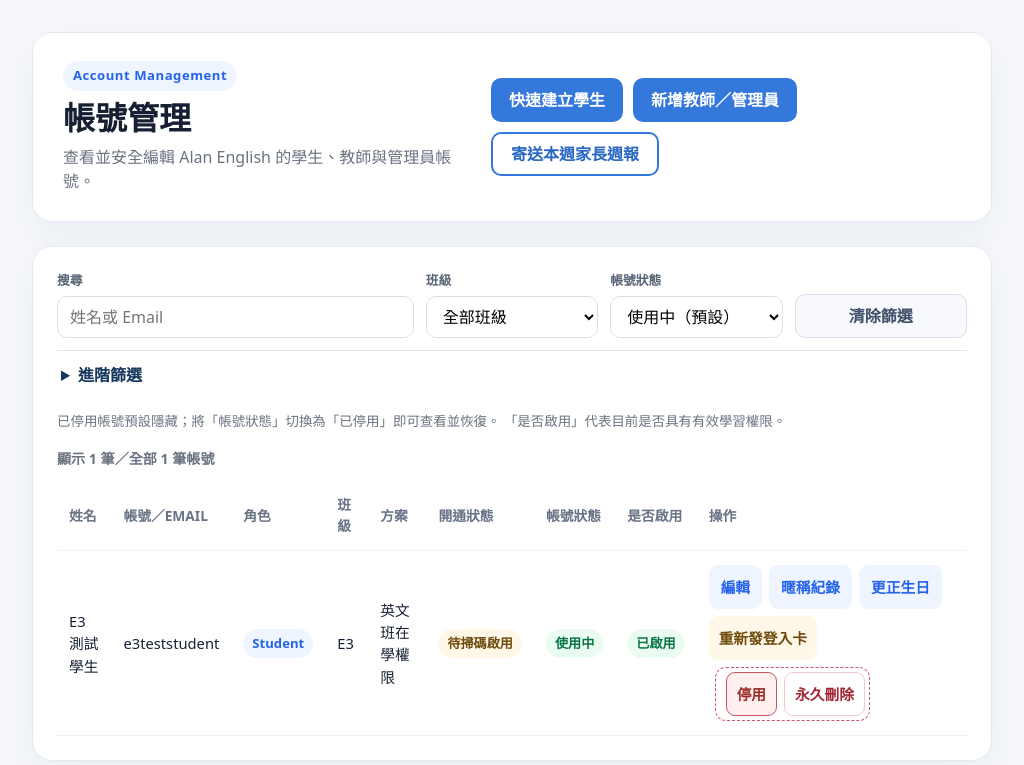
Test case: AccountManagement › hides an archived student by default and allows restoring it from the status filter
Click the button "停用" at {"x": 751, "y": 694}, box [726, 672, 777, 716]
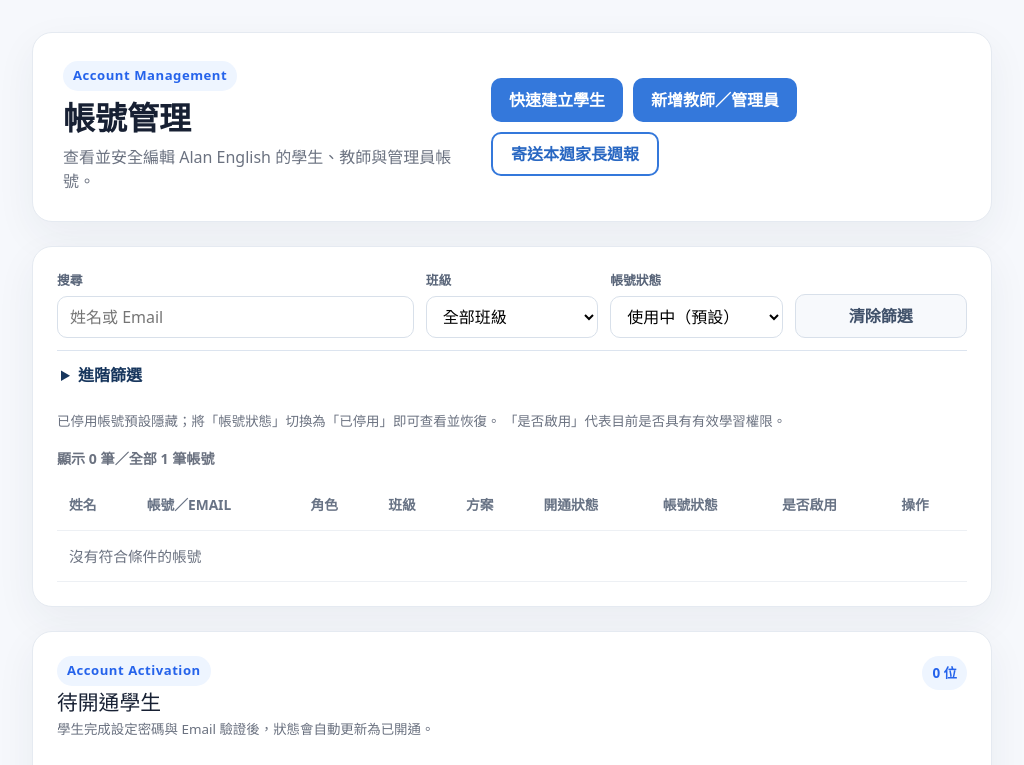
Result: the text "E3 測試學生" is gone
Select "已停用" in the dropdown labelled "帳號狀態" at {"x": 696, "y": 317}, box [610, 296, 783, 338]
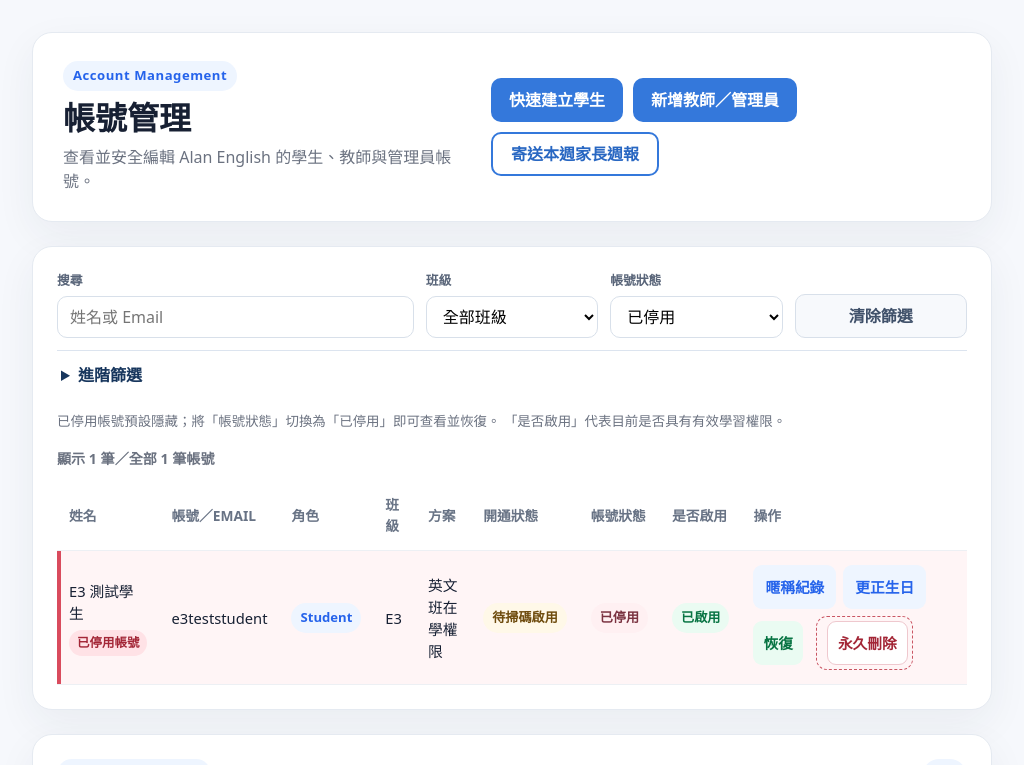
Result: the text "已停用帳號" is shown at [69, 630, 147, 656]
Click the button "恢復" at {"x": 778, "y": 644}, box [753, 622, 803, 666]
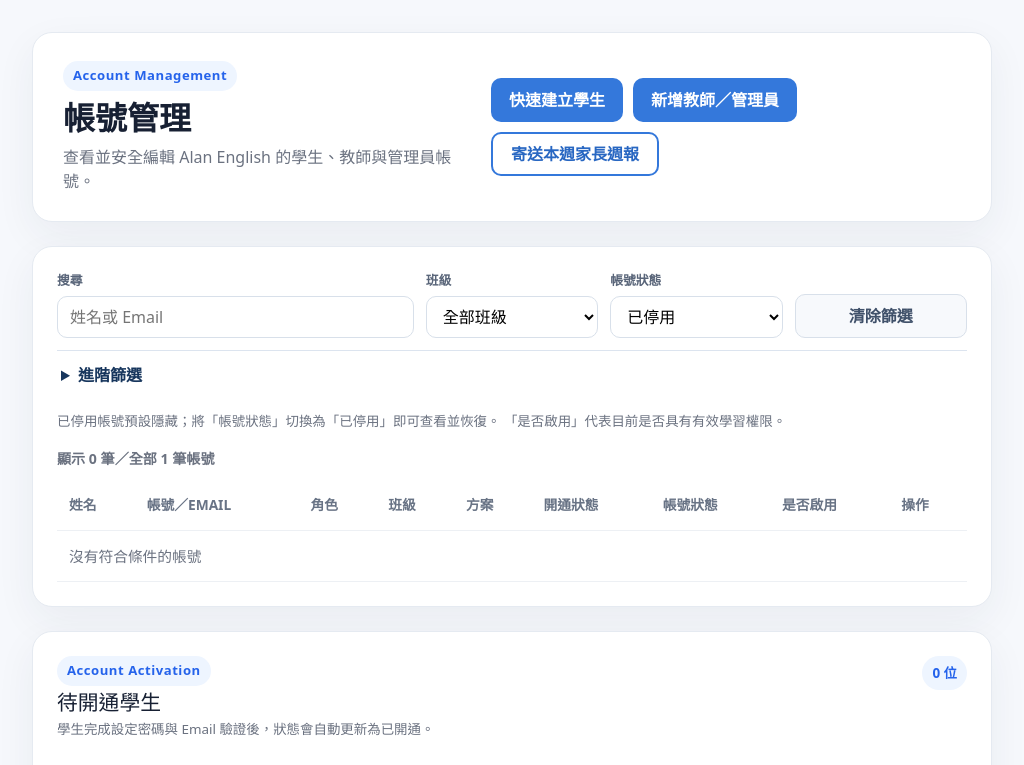
Result: the text "E3 測試學生" is gone
Select "使用中（預設）" in the dropdown labelled "帳號狀態" at {"x": 696, "y": 317}, box [610, 296, 783, 338]
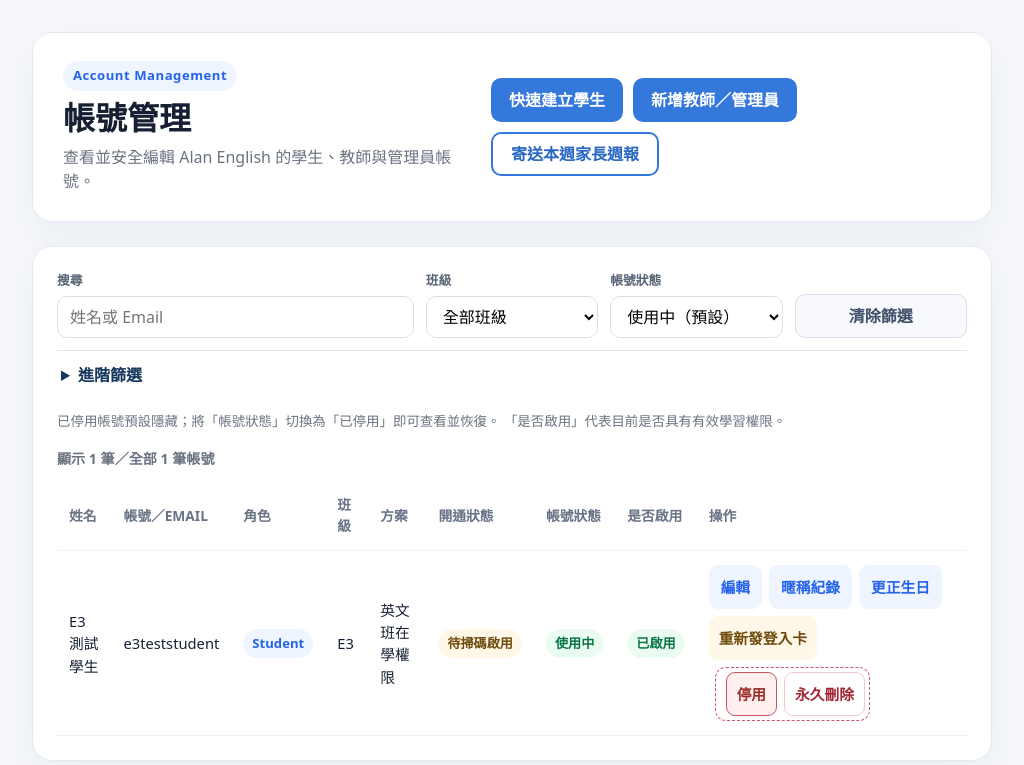
Result: the text "使用中" is shown at [546, 629, 603, 658]
